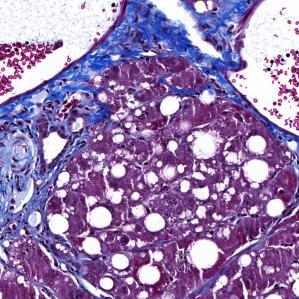fibrosis: (0, 89, 81, 234), (81, 8, 186, 97)
